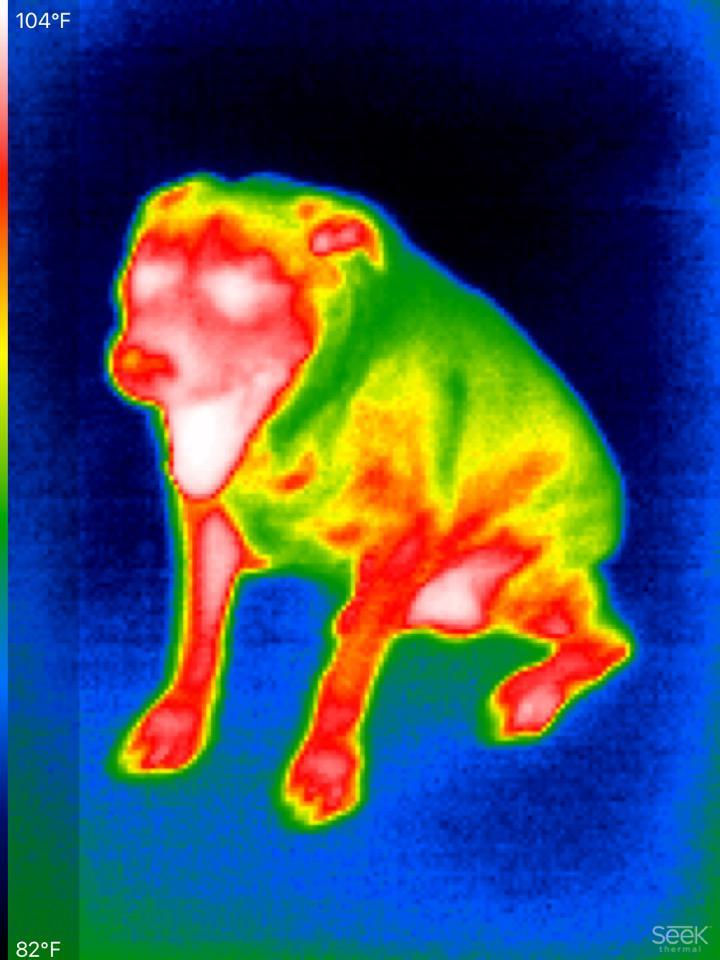dog: (89, 159, 652, 835)
